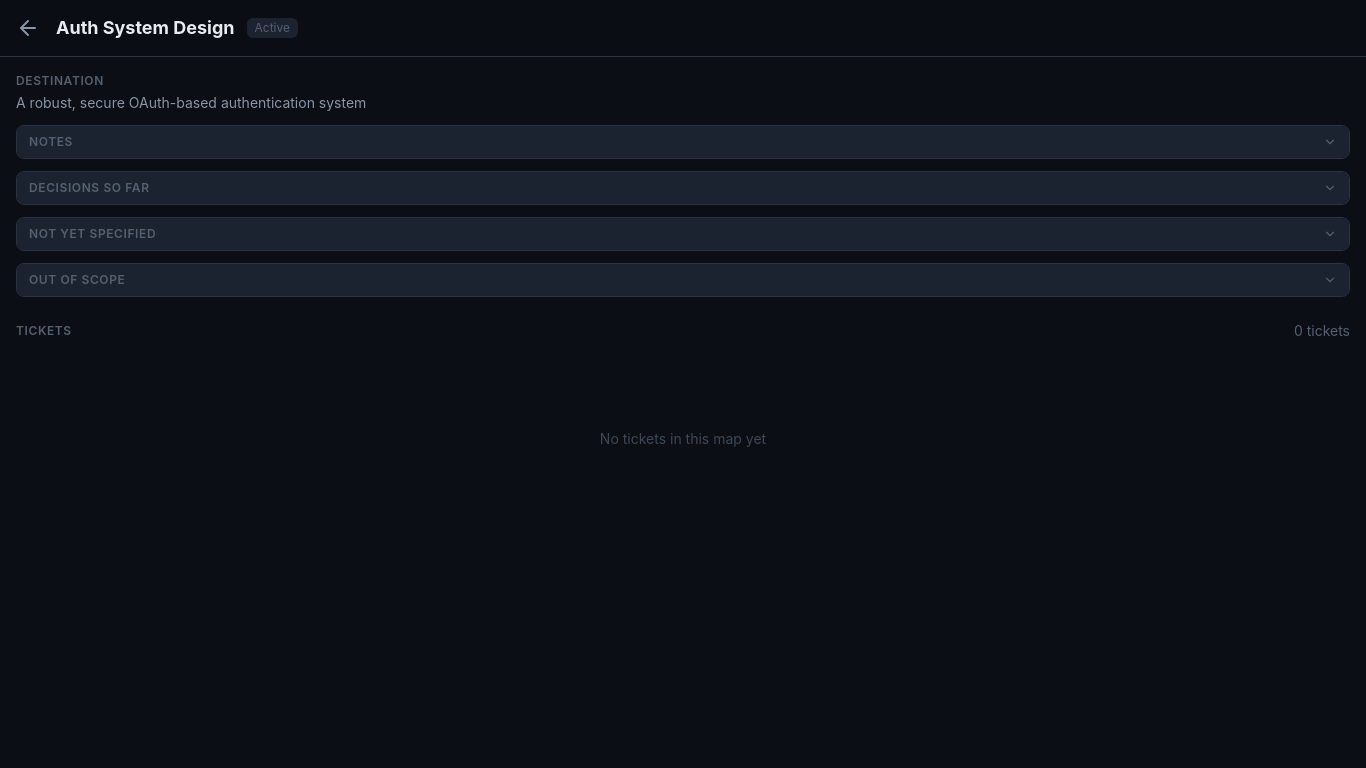
Test: WayfinderMapView › expands a metadata section on click to show its content
The image size is (1366, 768).
expect the text "Consider PKCE for mobile. Research OIDC compatibility." is not shown: met
// Click to expand Notes
Click the button "Notes" at (51, 142), box [17,126,1349,158]
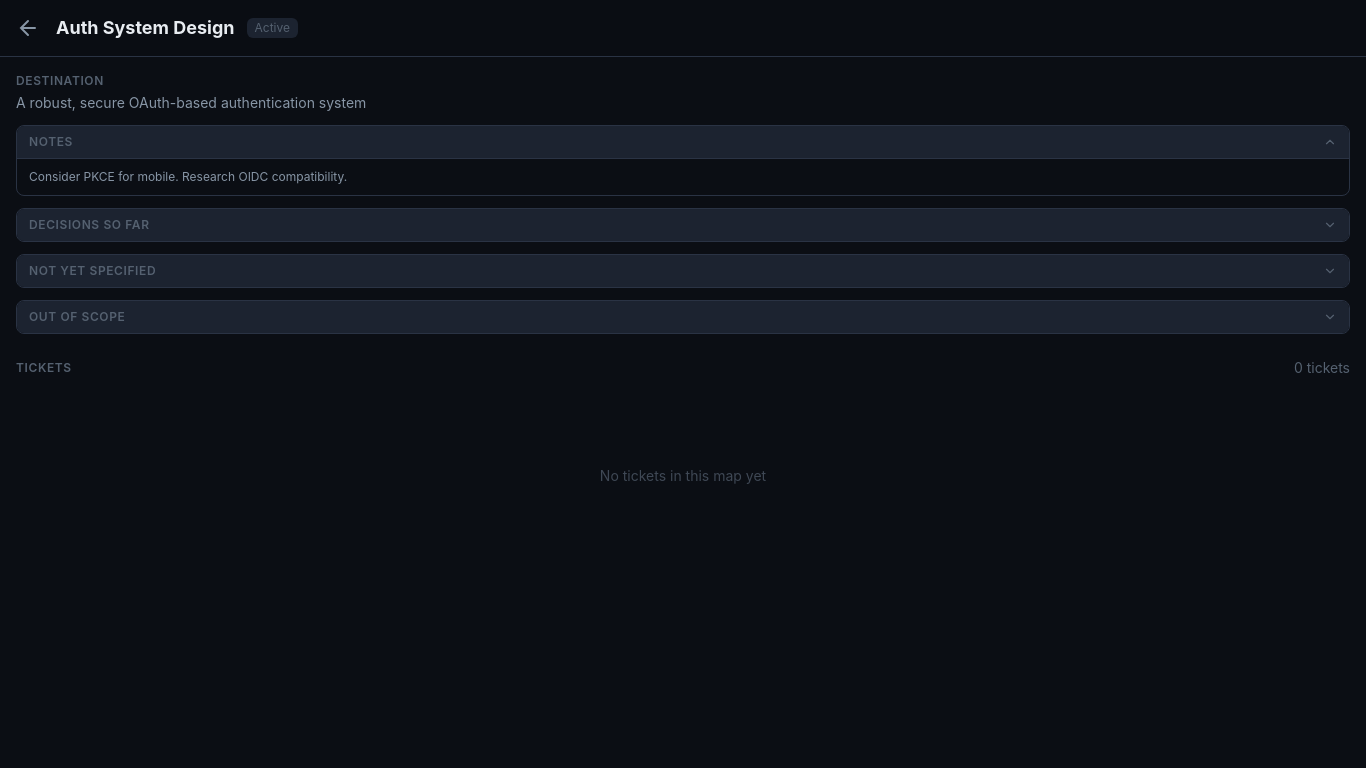
expect the text "Consider PKCE for mobile. Research OIDC compatibility." is shown: met, box [29,169,347,184]
